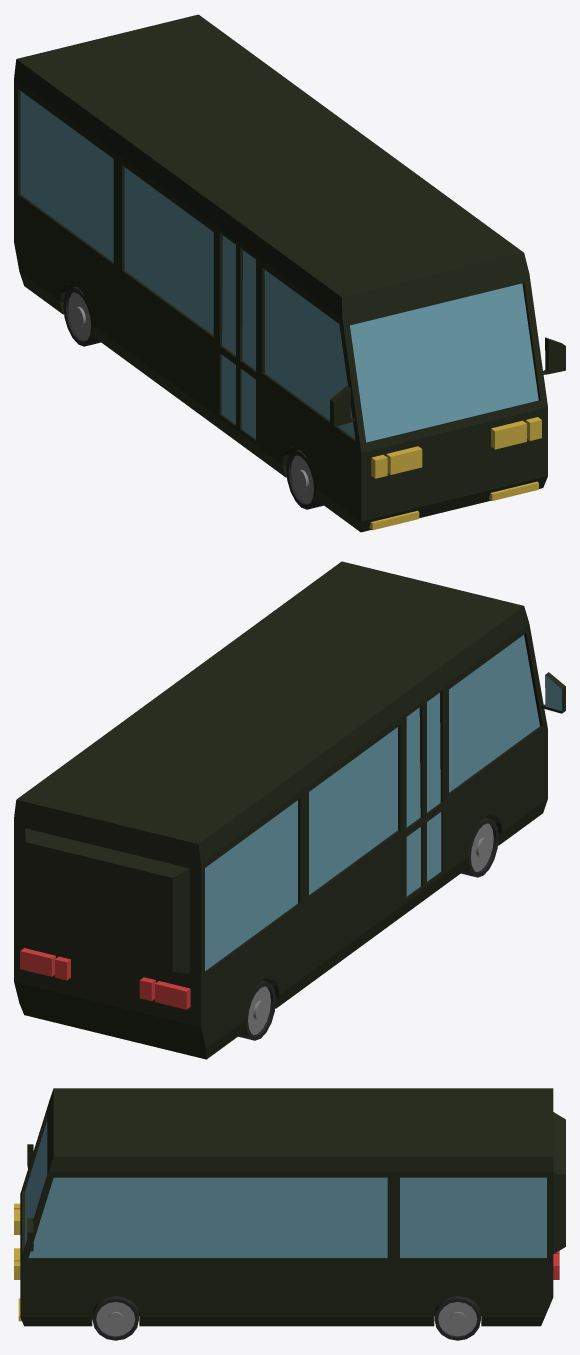
Rendered from Bus.fbx.
3 views of the same model, one above another, from view 1: azimuth 30°, elevation 25°; view 2: azimuth 150°, elevation 25°; view 3: azimuth 270°, elevation 25° (orthographic). The views are drawn at different scales.
Parts seen in each view (by area): view 1: Bus, Bus_RightFrontWheel, Bus_RightBackWheel; view 2: Bus, Bus_RightFrontWheel, Bus_RightBackWheel; view 3: Bus, Bus_LeftFrontWheel, Bus_LeftBackWheel.
Part boxes in pixels (x1,y1,x2,y2): Bus: (14,14,565,532); Bus_RightFrontWheel: (286,449,323,509); Bus_RightBackWheel: (63,286,100,346); Bus: (14,561,565,1059); Bus_RightFrontWheel: (461,817,498,877); Bus_RightBackWheel: (238,980,275,1040); Bus: (14,1088,565,1326); Bus_LeftFrontWheel: (92,1296,138,1340); Bus_LeftBackWheel: (434,1296,480,1340).
Bounding box in the file's own units: 329 × 325 × 884.
